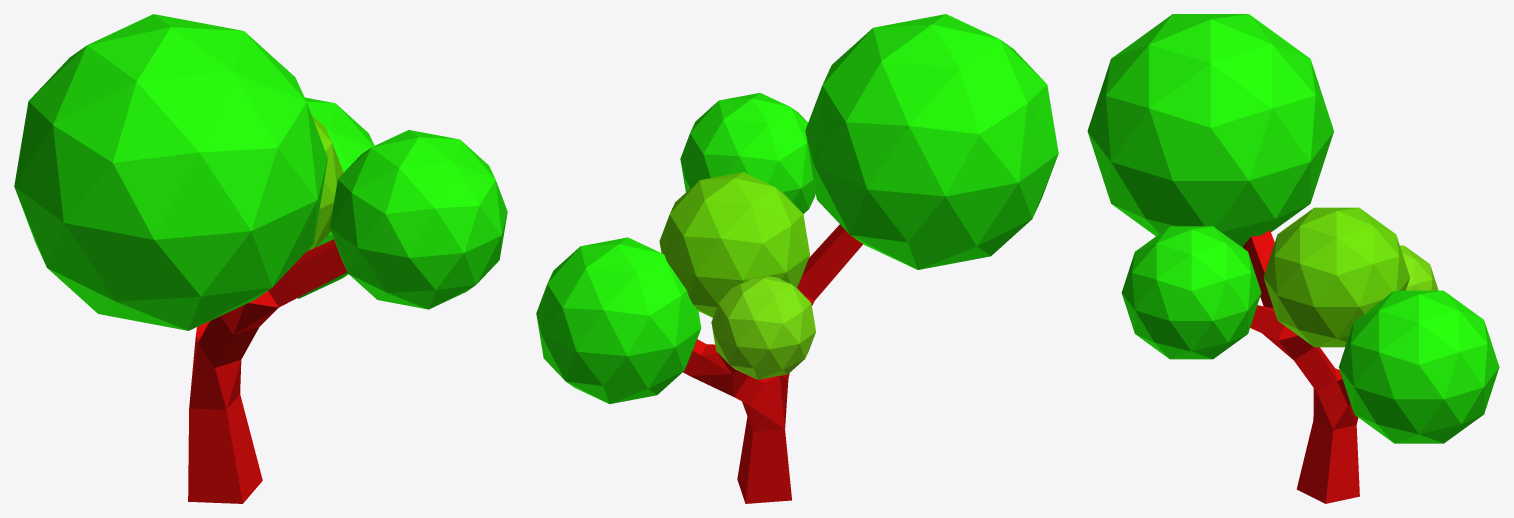
File: drzewo2.fbx
The picture shows the model from 3 angles, left to right: view 1: azimuth 30°, elevation 25°; view 2: azimuth 150°, elevation 25°; view 3: azimuth 270°, elevation 25°; orthographic projection. The views are drawn at different scales.
Parts seen in each view (by area): view 1: Kula ico, Kula ico.001, Cube, Kula ico.003, Kula ico.002; view 2: Kula ico, Kula ico.003, Kula ico.002, Kula ico.001, Cube, Kula ico.004; view 3: Kula ico, Kula ico.003, Kula ico.001, Kula ico.002, Cube, Kula ico.004.
Boxes of the visible parts, bbox=[...] form: Kula ico: bbox=[14, 14, 327, 330]; Kula ico.001: bbox=[329, 130, 507, 309]; Cube: bbox=[188, 239, 347, 503]; Kula ico.003: bbox=[297, 97, 374, 298]; Kula ico.002: bbox=[306, 115, 343, 251]; Kula ico: bbox=[805, 14, 1058, 269]; Kula ico.003: bbox=[536, 237, 701, 404]; Kula ico.002: bbox=[659, 172, 809, 317]; Kula ico.001: bbox=[680, 93, 815, 213]; Cube: bbox=[683, 224, 862, 503]; Kula ico.004: bbox=[711, 276, 815, 379]; Kula ico: bbox=[1087, 14, 1333, 247]; Kula ico.003: bbox=[1339, 290, 1499, 443]; Kula ico.001: bbox=[1121, 226, 1261, 359]; Kula ico.002: bbox=[1263, 207, 1409, 347]; Cube: bbox=[1242, 230, 1359, 503]; Kula ico.004: bbox=[1400, 245, 1438, 290].
Size of the model in its own units: 821 by 925 by 809.
